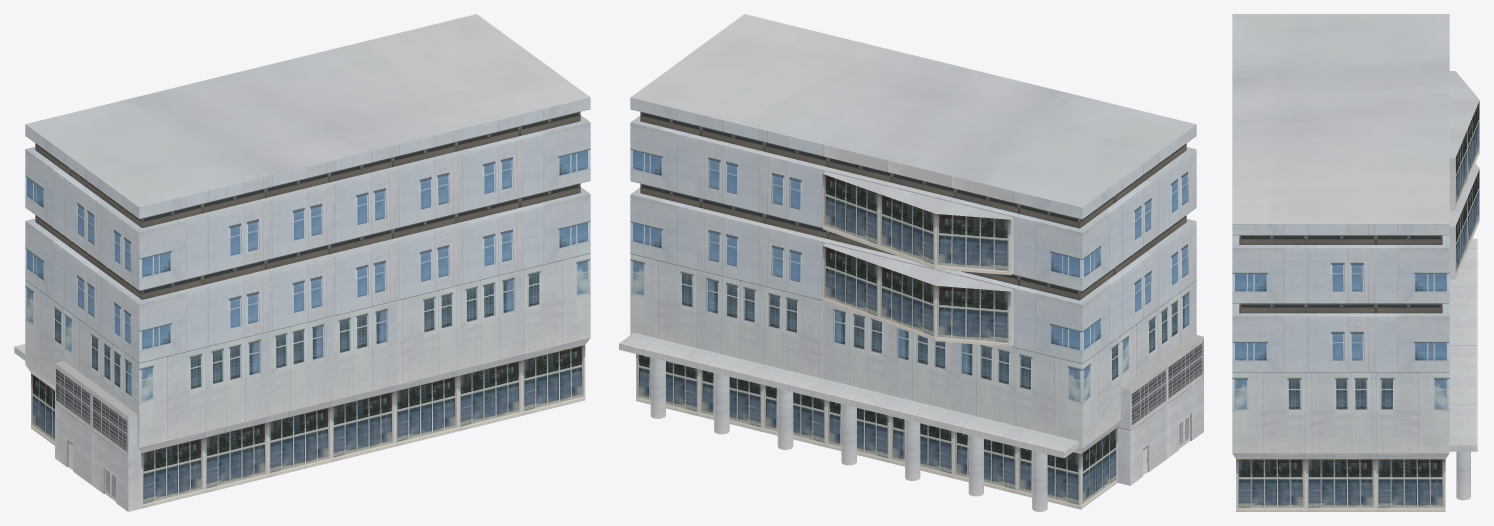
3 renders of one model, left to right at view 1: azimuth 30°, elevation 25°; view 2: azimuth 150°, elevation 25°; view 3: azimuth 270°, elevation 25°, orthographic. The views are drawn at different scales.
Parts seen in each view (by area): view 1: Building_01; view 2: Building_01; view 3: Building_01.
Part boxes in pixels (<box>): Building_01: <box>14,14,590,511</box>; Building_01: <box>619,14,1203,511</box>; Building_01: <box>1232,14,1479,511</box>.
Bounding box in the file's own units: 0.3627 × 0.2285 × 0.1771.
Materials: 1 (1 with a texture image).
